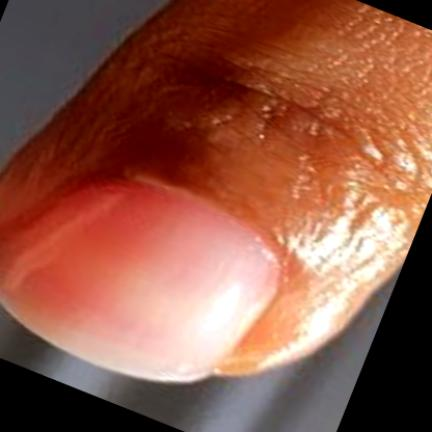Nail: (0, 178, 283, 383)
